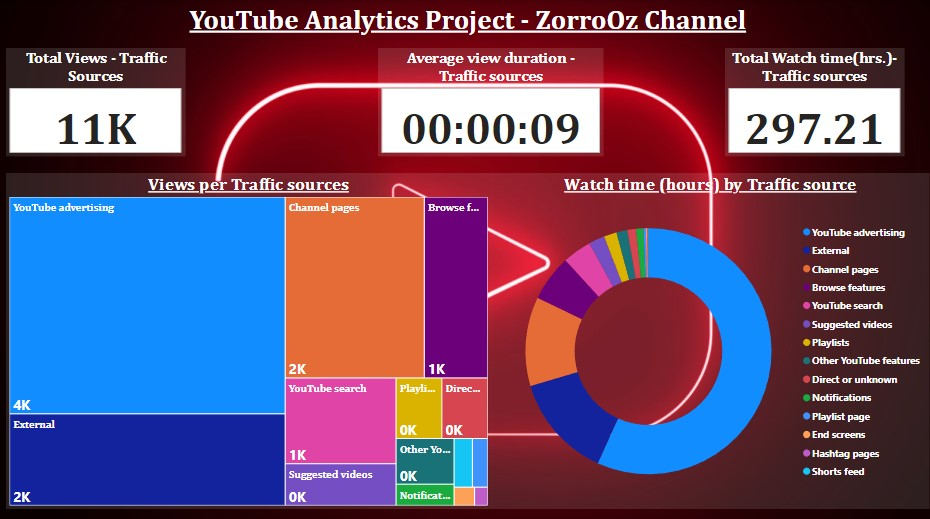

The page's visual inventory and layout, read from the dashboard file:
{"tool":"powerbi","page":{"name":"Traffic List ","canvas":[1280,720],"ordinal":4},"visuals":[{"type":"textbox","box":[10.1,0,1269.9,58.7],"z":0},{"type":"cardVisual","title":"Total Views - Traffic Sources","fields":{"Data":["Sum(Traffic List.Views)"]},"box":[10.1,65.4,246.6,149.3],"z":1000},{"type":"cardVisual","title":"Total Watch time(hrs.)- Traffic sources","fields":{"Data":["Sum(Traffic List.Watch time (hours))"]},"box":[998.2,65.4,246.6,149.3],"z":2000},{"type":"cardVisual","title":"Average view duration - Traffic sources","fields":{"Data":["Min(Traffic List.Average view duration)"]},"box":[521.7,65.4,310.4,149.3],"z":3000},{"type":"treemap","title":"Views per Traffic sources","fields":{"Group":["Traffic List.Traffic source"],"Values":["Sum(Traffic List.Views)"]},"box":[10.1,237.6,666.7,462.2],"z":4000},{"type":"donutChart","title":"Watch time (hours) by Traffic source","fields":{"Category":["Traffic List.Traffic source"],"Y":["Sum(Traffic List.Watch time (hours))"]},"box":[676.8,237.6,603.2,462.2],"z":5000}]}

Visuals, with their boxes in screenshot pixels (x1, y1, x2, y2), scaled from the page's 1280x720 canvas onto the 930x519 screenshot:
textbox: bbox(7, 0, 929, 42)
"Total Views - Traffic Sources" cardVisual: bbox(7, 47, 187, 155)
"Total Watch time(hrs.)- Traffic sources" cardVisual: bbox(725, 47, 904, 155)
"Average view duration - Traffic sources" cardVisual: bbox(379, 47, 605, 155)
"Views per Traffic sources" treemap: bbox(7, 171, 492, 504)
"Watch time (hours) by Traffic source" donutChart: bbox(492, 171, 929, 504)
